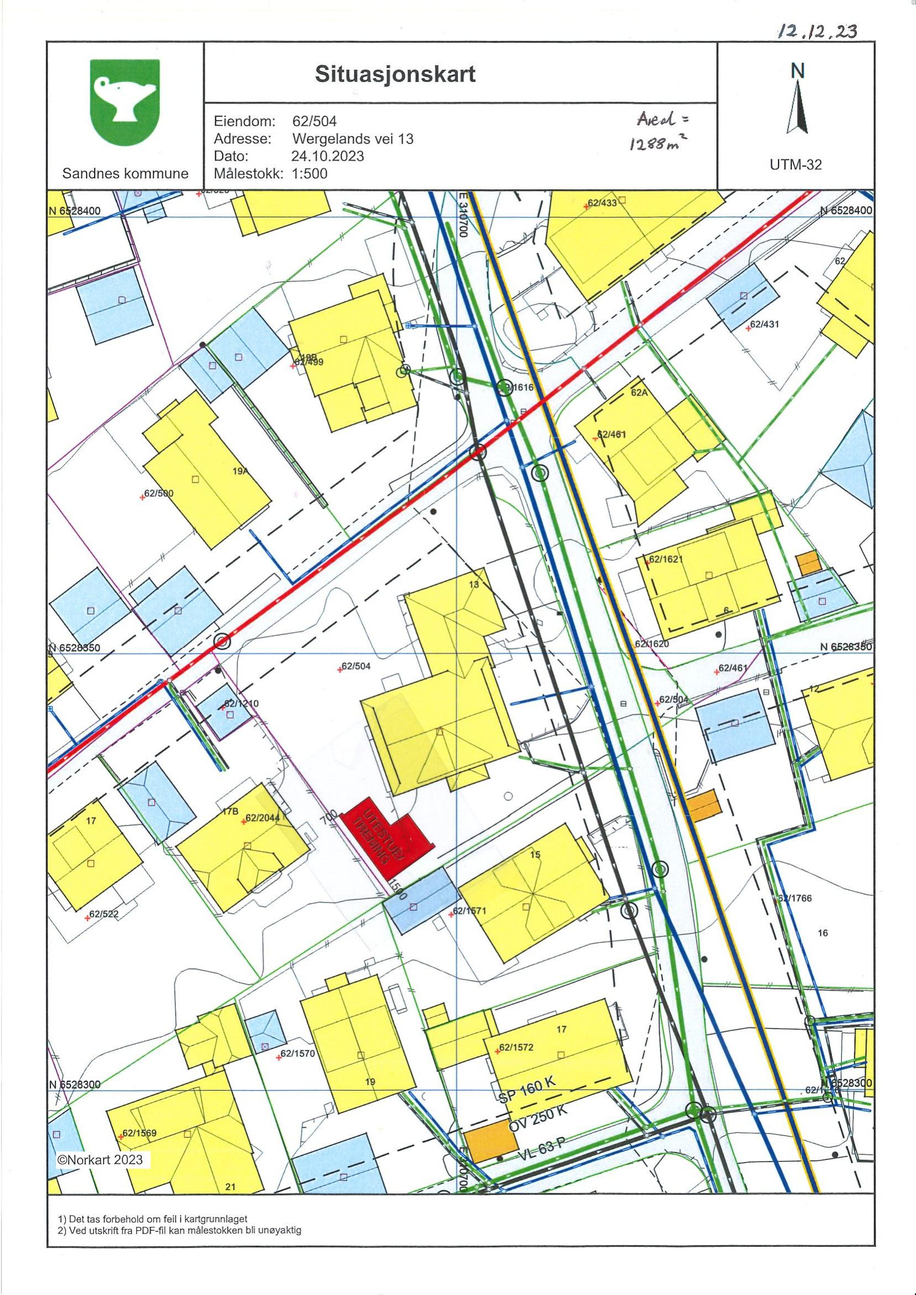situasjonskart: (47, 188, 875, 1197)
